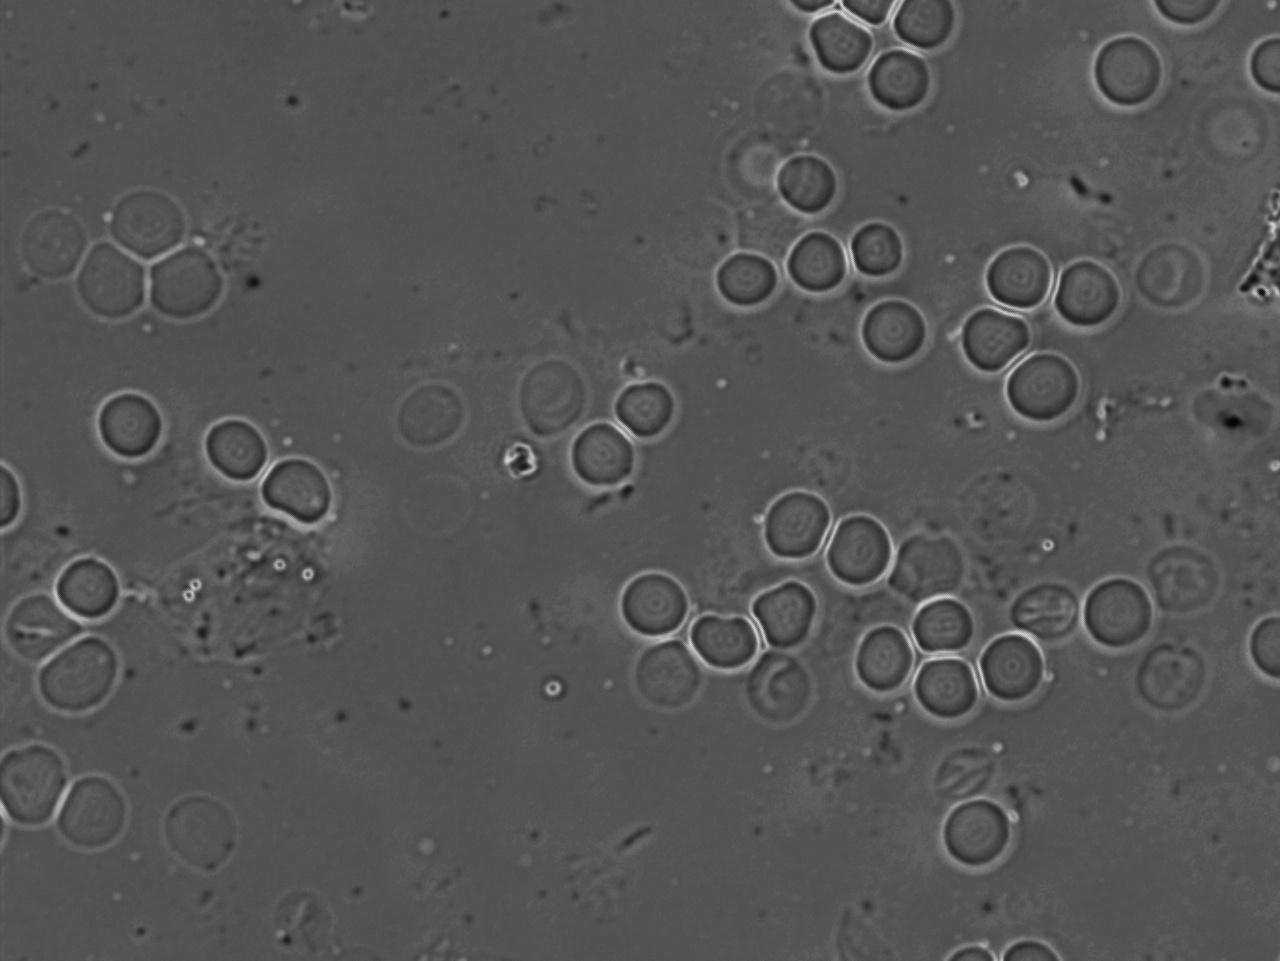depth:0: (20, 627, 133, 723), (742, 459, 840, 565), (702, 237, 792, 347), (80, 379, 179, 472), (975, 230, 1067, 331), (1002, 348, 1097, 442), (806, 507, 905, 596), (931, 788, 1026, 880), (1081, 26, 1175, 118), (1068, 559, 1163, 649), (763, 136, 853, 227), (1038, 250, 1126, 343), (835, 612, 923, 703), (559, 405, 645, 497), (735, 569, 825, 656), (601, 556, 692, 641), (850, 286, 938, 373), (906, 646, 993, 731), (900, 579, 987, 663), (962, 626, 1050, 709), (953, 296, 1041, 379), (42, 546, 136, 623), (252, 453, 343, 532), (1006, 572, 1096, 651), (685, 593, 767, 678), (856, 38, 939, 121), (779, 223, 860, 307), (799, 10, 881, 92), (188, 408, 271, 487), (607, 369, 688, 448), (846, 208, 922, 287), (1231, 28, 1280, 106)
